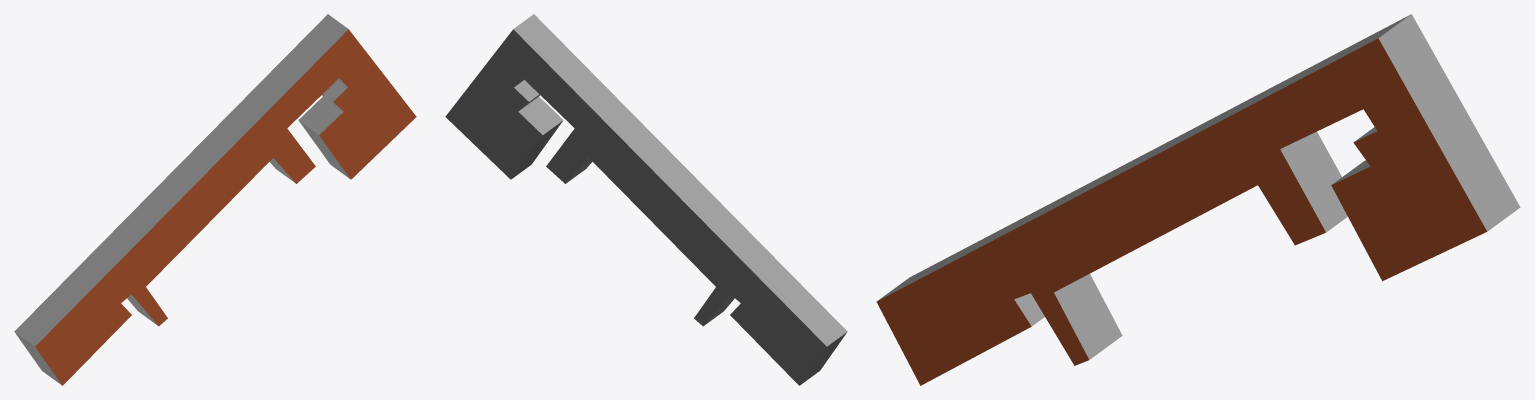
Rendered from construction_3024_assumed_A_Casa_h6m.obj.
3 renders of one model, left to right at view 1: azimuth 30°, elevation 25°; view 2: azimuth 150°, elevation 25°; view 3: azimuth 330°, elevation 25°, orthographic. The views are drawn at different scales.
Visible parts, largest first — view 1: construction_3024_assumed_A_Casa; view 2: construction_3024_assumed_A_Casa; view 3: construction_3024_assumed_A_Casa.
Boxes of the visible parts, x1,y1,x2,y2 form: construction_3024_assumed_A_Casa: (14,14,416,385); construction_3024_assumed_A_Casa: (445,14,847,385); construction_3024_assumed_A_Casa: (876,14,1520,385).
Bounding box in the file's own units: 63.72 × 45.79 × 6.
